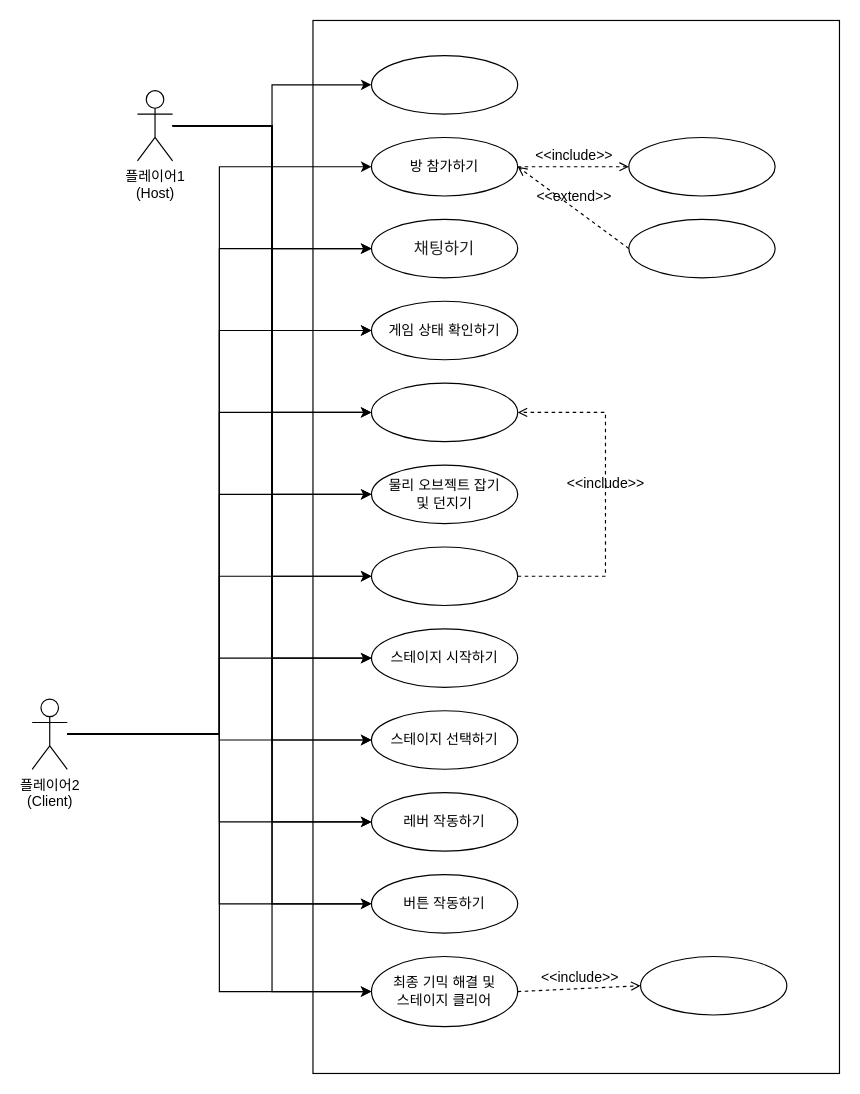
The diagram is 860 pixels wide and 1094 high, and some of its shapes have lost their labels. The shapes that lost their labels are listed below. From the top down, each one's centre as x and y in pixels, then its label:
At [444,84]: "방 생성하기".
At [701,166]: "방 검색하기".
At [701,248]: "비밀번호 입력하기".
At [444,412]: "플레이어 이동하기".
At [444,575]: "무거운 물리 객체 밀기".
At [713,985]: "결과 화면 확인하기".
